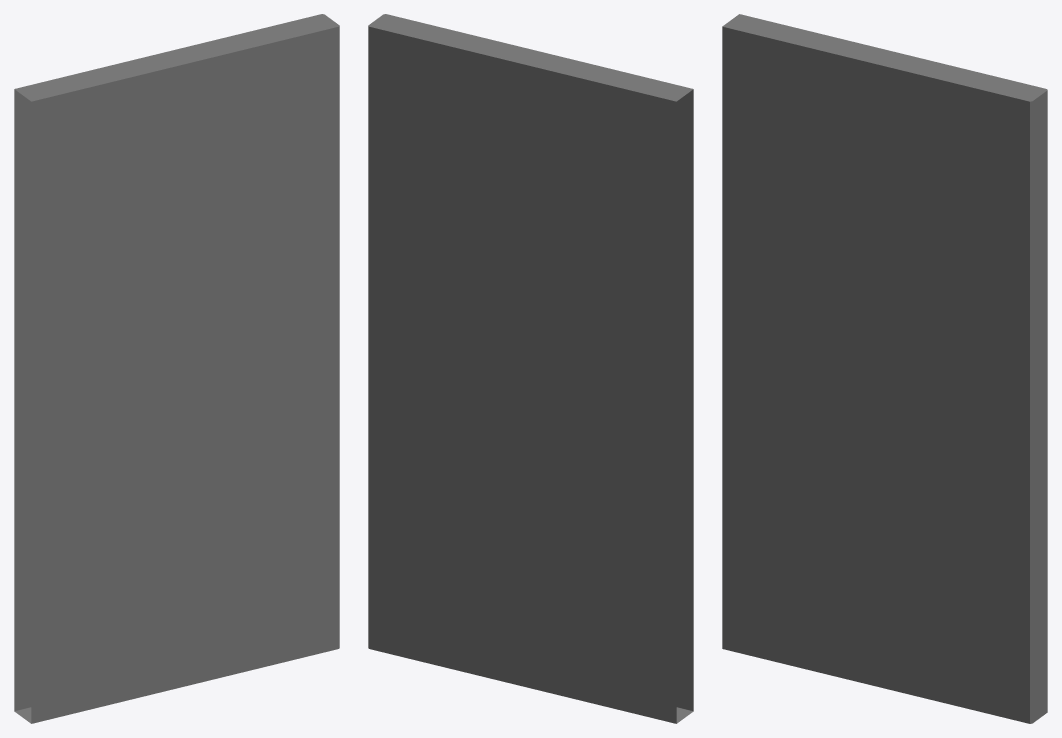
The model's file is q-scifi-mod-door-darkmetal.glb.
3 views of the same model, side by side, from view 1: azimuth 30°, elevation 25°; view 2: azimuth 150°, elevation 25°; view 3: azimuth 330°, elevation 25° (orthographic).
Visible parts, largest first — view 1: Door_DarkMetal; view 2: Door_DarkMetal; view 3: Door_DarkMetal.
Part boxes in pixels (<box>): Door_DarkMetal: <box>14,14,339,723</box>; Door_DarkMetal: <box>368,14,693,723</box>; Door_DarkMetal: <box>722,14,1047,723</box>.
Size of the model in its own units: 2.11 by 4.05 by 0.2032.
1 material, 1 textured.
